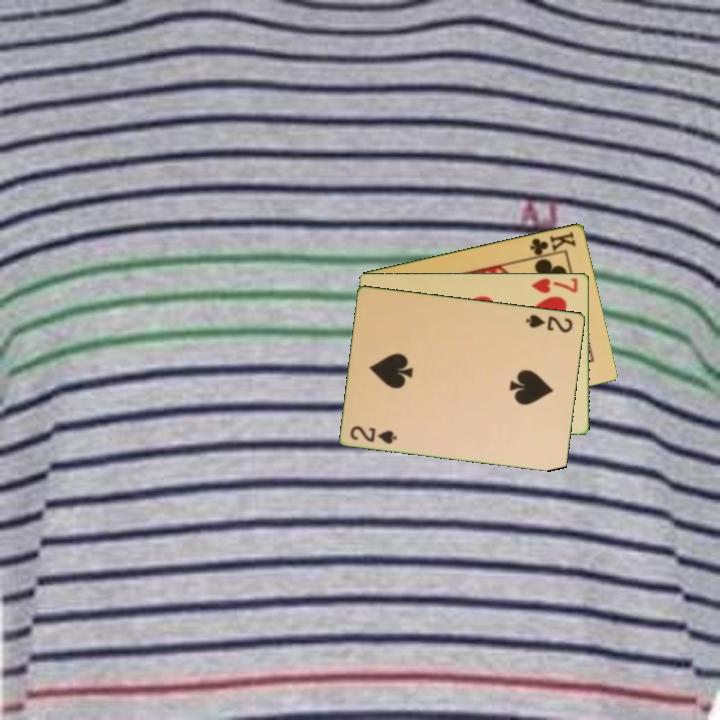2s: (347, 422, 400, 447), (523, 311, 576, 335)
7h: (529, 274, 581, 295)
Kc: (527, 227, 579, 260)
